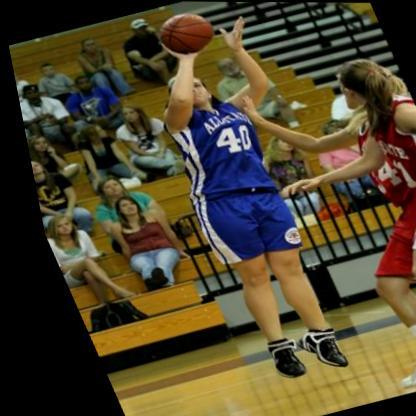basketball: (148, 7, 223, 60)
